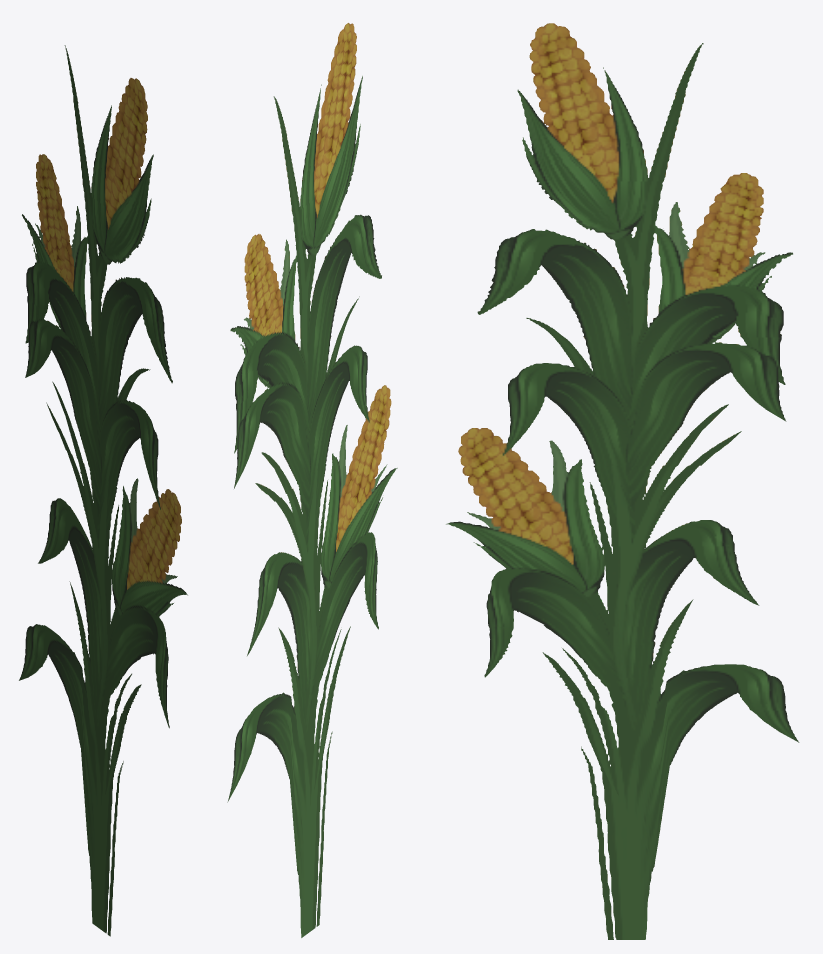
The model's file is CornCrop_small.fbx.
3 renders of one model, left to right at view 1: azimuth 30°, elevation 25°; view 2: azimuth 150°, elevation 25°; view 3: azimuth 270°, elevation 25°, orthographic. The views are drawn at different scales.
Visible parts, largest first — view 1: CornCrop_small; view 2: CornCrop_small; view 3: CornCrop_small.
Part boxes in pixels (left/top/right/bottom): CornCrop_small: left=19, top=45, right=187, bottom=936; CornCrop_small: left=227, top=23, right=397, bottom=937; CornCrop_small: left=446, top=23, right=799, bottom=939.
Bounding box in the file's own units: 2.02e-18 × 1.09 × 0.4031.
